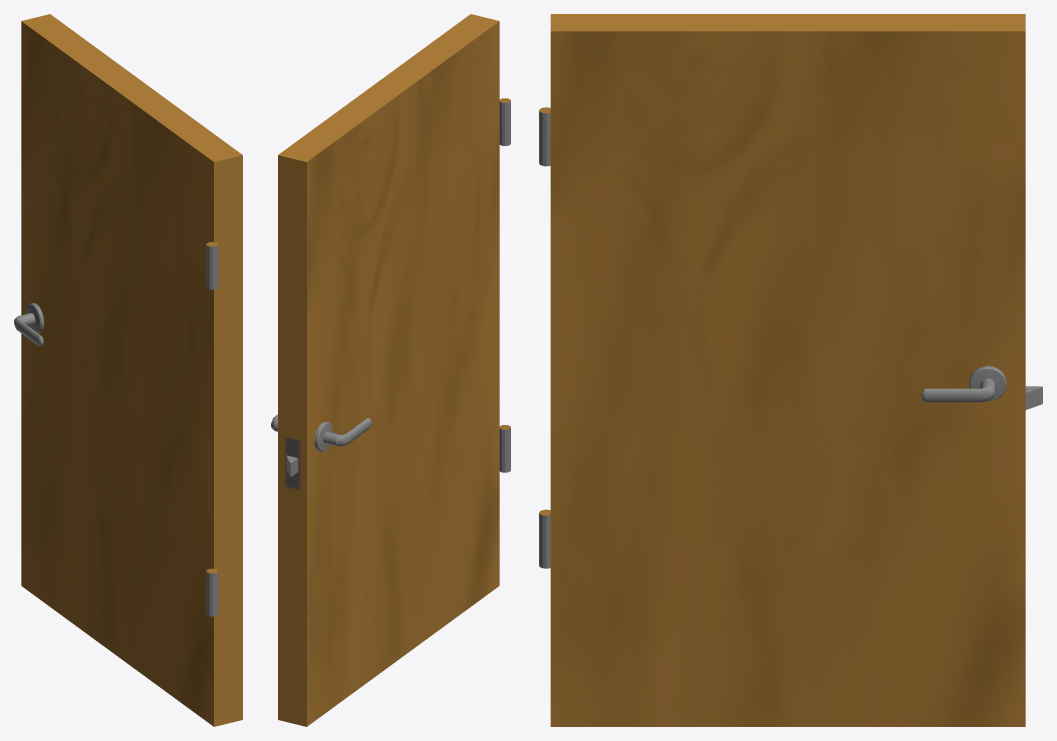
File: door_2.fbx
The picture shows the model from 3 angles, left to right: view 1: azimuth 30°, elevation 25°; view 2: azimuth 150°, elevation 25°; view 3: azimuth 270°, elevation 25°; orthographic projection. The views are drawn at different scales.
Visible parts, largest first — view 1: door; view 2: door; view 3: door.
Boxes of the visible parts, x1,y1,x2,y2 form: door: (14, 14, 242, 726); door: (271, 14, 510, 726); door: (539, 14, 1042, 726).
Size of the model in its own units: 1.49 by 10.54 by 6.92.
Materials: 1 (1 with a texture image).
